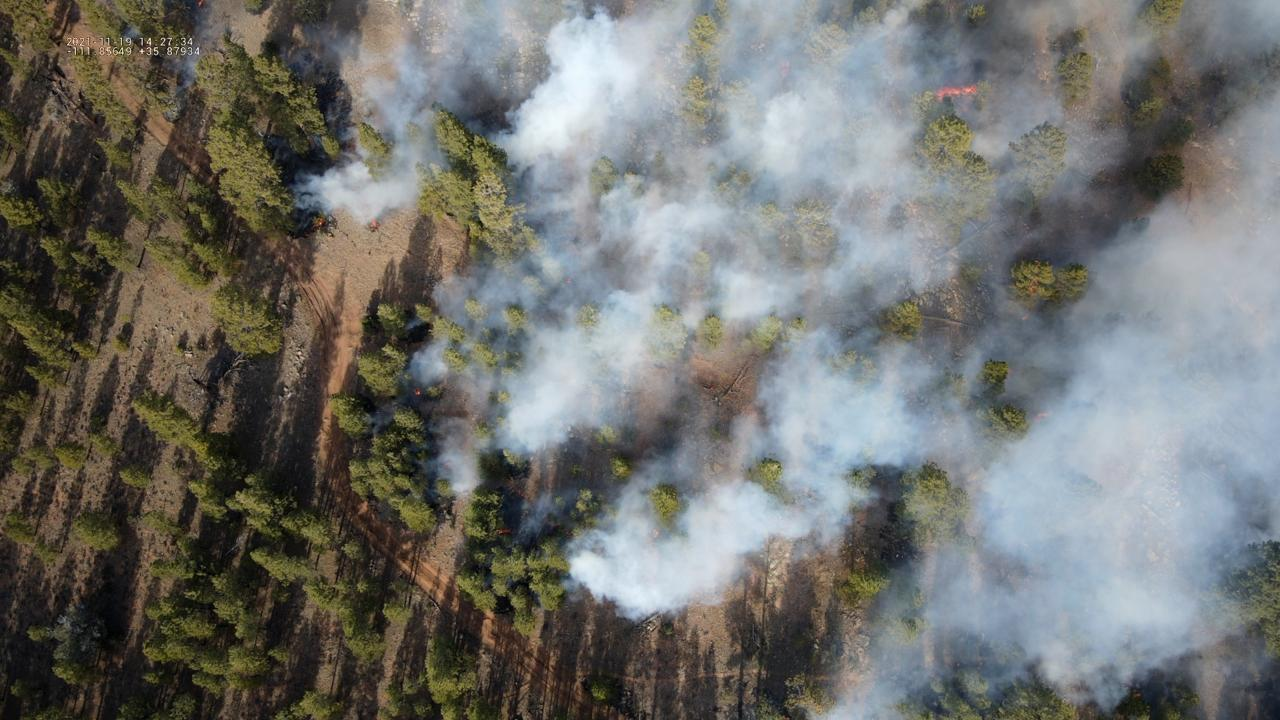fire: (933, 81, 979, 105), (1032, 412, 1050, 424), (777, 63, 789, 78), (314, 217, 325, 231), (370, 220, 380, 230), (196, 0, 205, 10), (414, 387, 422, 397), (499, 528, 510, 534), (1021, 315, 1030, 321)
smoke: (287, 0, 1280, 720), (170, 0, 216, 103), (122, 26, 141, 39)
